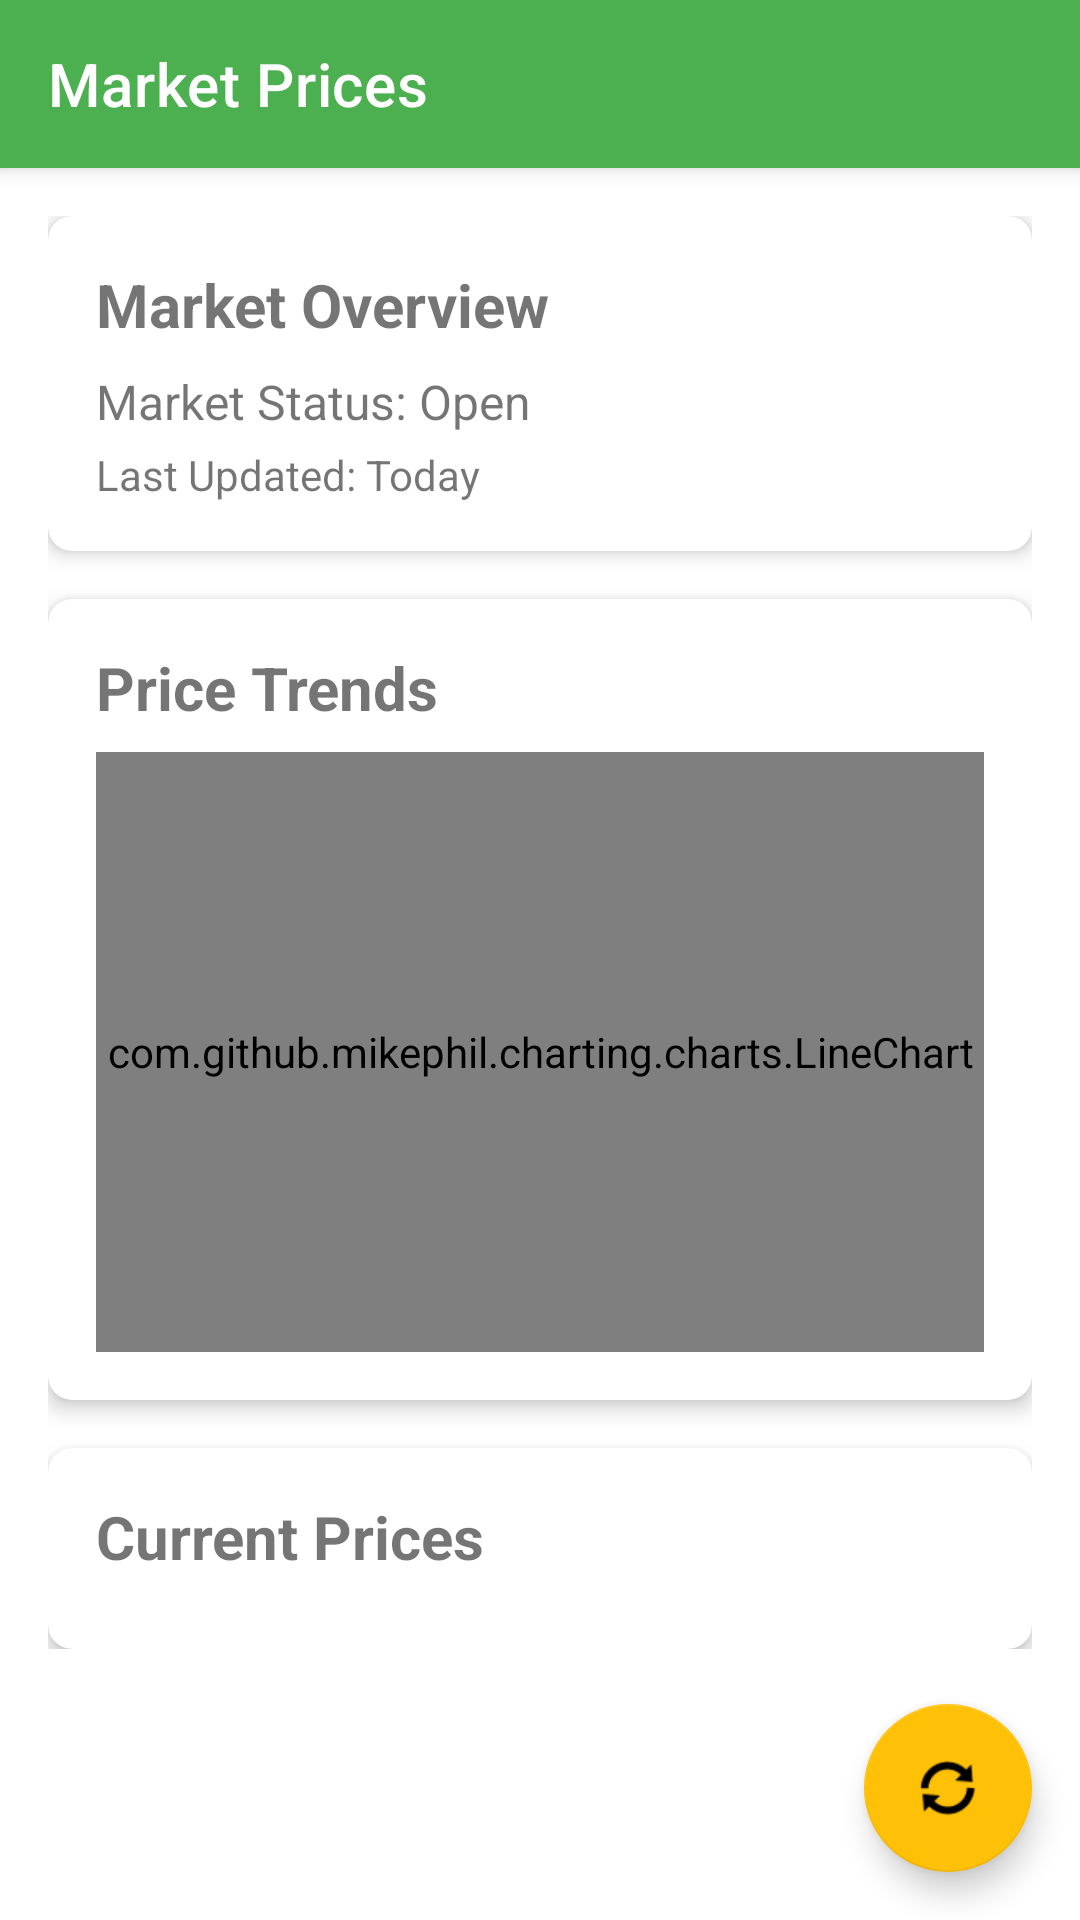

Icons on this 1080px x 1920px Android screen, each with the point to tap as (x=x, y=y):
popup sync: (x=948, y=1788)
